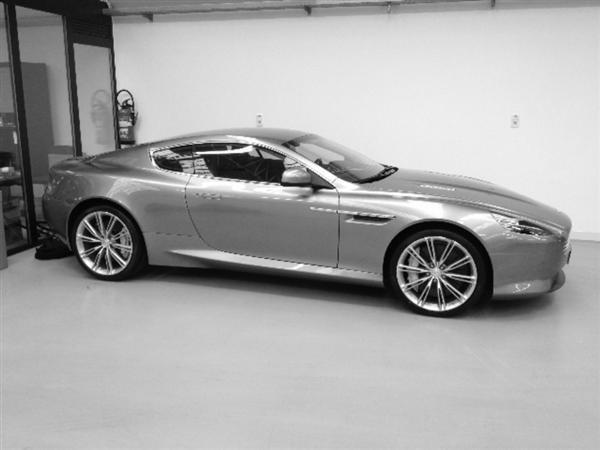car: (39, 124, 577, 319)
